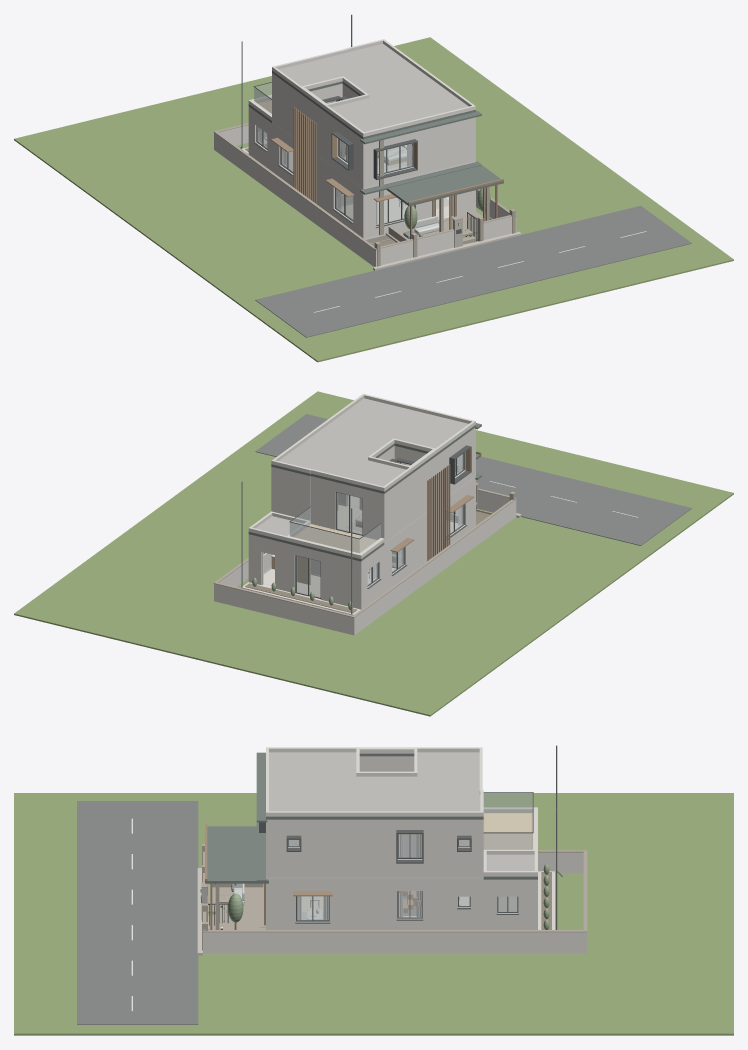
3 views of the same model, one above another, from view 1: azimuth 30°, elevation 25°; view 2: azimuth 150°, elevation 25°; view 3: azimuth 270°, elevation 25° (orthographic). The views are drawn at different scales.
Visible parts, largest first — view 1: world, custom-roof-finish-1, custom-roof-edge-1, exterior-porch-01-roof, wall-44aec5453eb587b517/0, wall-ae07d5a1624a482f4e/0, u-court-east-wall/0, wall-56f0df1c559ffb676d/1, wall-8aa8ca5207131ec5fa/1, roof-floor-1, wall-7168c41b46fb575962/1, l-court-east-wall-2/0 (+2 smaller); view 2: world, custom-roof-finish-1, custom-roof-edge-1, wall-07f861034d02370a2d/0, wall-59ff834e22f7912519/0, wall-ae07d5a1624a482f4e/0, wall-a66522edbdfa76ded5/0, u-balcony-guard-0, custom-roof-edge-0, u-balcony/stone-deck, u-court-east-wall/0, l-court-east-wall-2/0 (+6 smaller); view 3: world, custom-roof-finish-1, custom-roof-edge-1, exterior-porch-01-roof, wall-52cafdbdcb19207600/0, wall-091800ff5b6f9d52a1/1, wall-0e7fc3fe49344c308f/1, u-balcony-guard-0, u-balcony/stone-deck, wall-e3868b5023a3825a9d/1, wall-1b6780813577d5cf8a/0, wall-0e7fc3fe49344c308f/0 (+20 smaller).
Part boxes in pixels (x1,y1,x2,y2): world: (14,14,733,362); custom-roof-finish-1: (279,44,468,131); custom-roof-edge-1: (272,39,475,136); exterior-porch-01-roof: (386,161,503,206); wall-44aec5453eb587b517/0: (440,117,475,168); wall-ae07d5a1624a482f4e/0: (272,73,300,140); u-court-east-wall/0: (300,94,323,158); wall-56f0df1c559ffb676d/1: (366,134,439,178); wall-8aa8ca5207131ec5fa/1: (366,190,475,229); roof-floor-1: (272,70,475,138); wall-7168c41b46fb575962/1: (323,174,366,230); l-court-east-wall-2/0: (301,145,323,208); world: (14,391,733,716); custom-roof-finish-1: (278,398,468,486); custom-roof-edge-1: (271,393,475,491); wall-07f861034d02370a2d/0: (284,552,357,608); wall-59ff834e22f7912519/0: (271,467,307,519); wall-ae07d5a1624a482f4e/0: (381,473,413,541); wall-a66522edbdfa76ded5/0: (313,486,379,539); u-balcony-guard-0: (289,507,380,553); custom-roof-edge-0: (248,511,384,558); u-balcony/stone-deck: (295,525,375,553); u-court-east-wall/0: (413,456,436,520); l-court-east-wall-2/0: (412,508,434,571); world: (14,745,733,1035); custom-roof-finish-1: (269,752,480,811); custom-roof-edge-1: (266,747,483,816); exterior-porch-01-roof: (205,826,268,883); wall-52cafdbdcb19207600/0: (326,819,359,876); wall-091800ff5b6f9d52a1/1: (359,891,450,919); wall-0e7fc3fe49344c308f/1: (359,831,450,859); u-balcony-guard-0: (483,792,532,849); u-balcony/stone-deck: (484,814,530,849); wall-e3868b5023a3825a9d/1: (270,893,359,922); wall-1b6780813577d5cf8a/0: (270,847,325,876); wall-0e7fc3fe49344c308f/0: (359,859,450,876).
Bounding box in the file's own units: 27.14 × 7.23 × 34.29.
